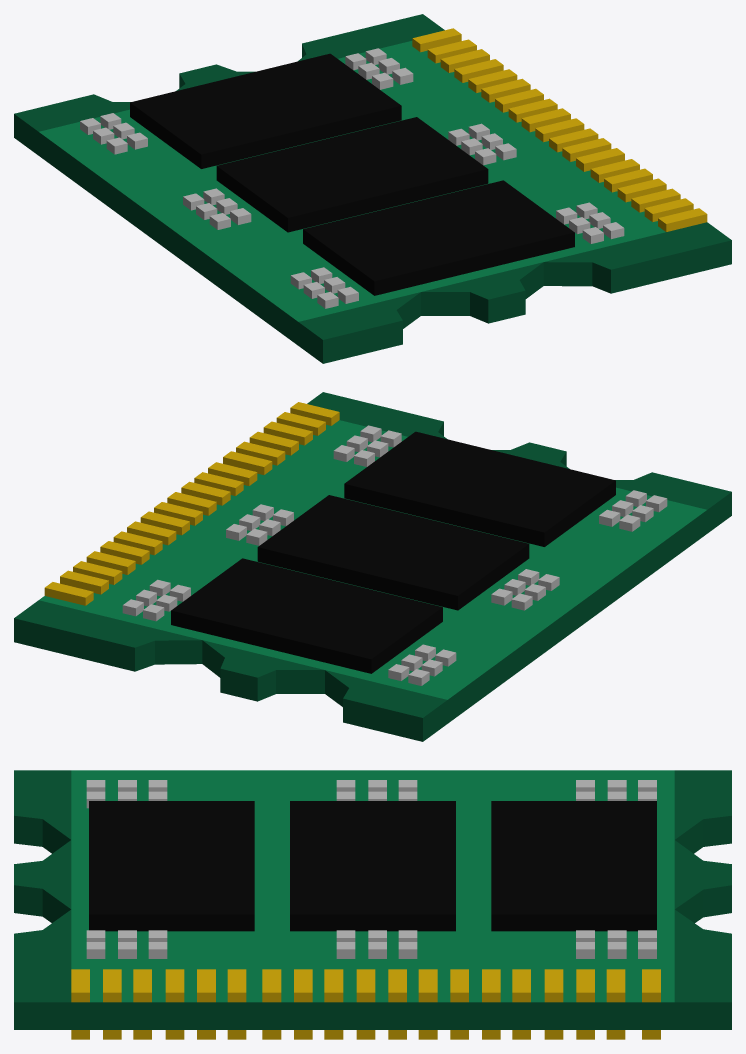
Rendered from ComputerRam_01.glb.
The picture shows the model from 3 angles, top to bottom: view 1: azimuth 30°, elevation 25°; view 2: azimuth 150°, elevation 25°; view 3: azimuth 270°, elevation 25°; orthographic projection. The views are drawn at different scales.
Parts seen in each view (by area): view 1: Mesh_ComputerRam_01; view 2: Mesh_ComputerRam_01; view 3: Mesh_ComputerRam_01.
Boxes of the visible parts, x1,y1,x2,y2 form: Mesh_ComputerRam_01: [14, 14, 731, 363]; Mesh_ComputerRam_01: [14, 392, 731, 741]; Mesh_ComputerRam_01: [14, 770, 731, 1039].
Bounding box in the file's own units: 0.0567 × 0.00618 × 0.0742.
1 material, 1 textured.
